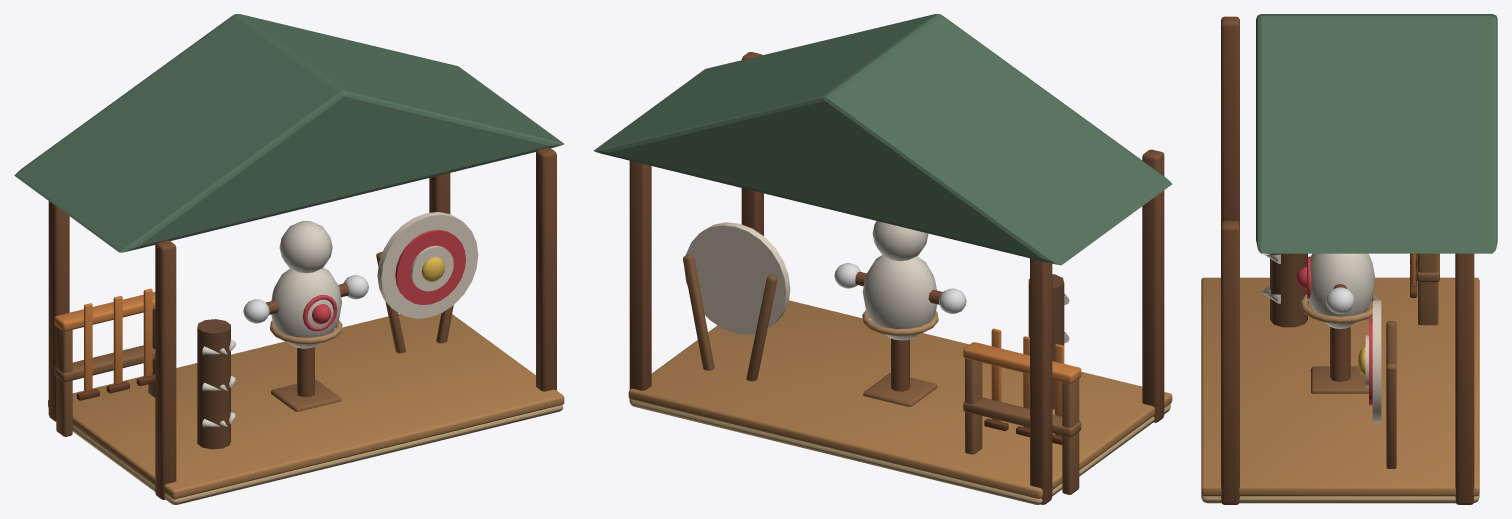
The model's file is training2.glb.
3 renders of one model, left to right at view 1: azimuth 30°, elevation 25°; view 2: azimuth 150°, elevation 25°; view 3: azimuth 270°, elevation 25°, orthographic. The views are drawn at different scales.
Visible parts, largest first — view 1: base, copper-rack, royal-target, fang-post; view 2: base, copper-rack, royal-target, fang-post; view 3: base, copper-rack, royal-target, fang-post.
Part boxes in pixels (x1,y1,x2,y2): base: [14, 14, 563, 504]; copper-rack: [48, 288, 564, 499]; royal-target: [376, 212, 478, 353]; fang-post: [197, 319, 236, 449]; base: [593, 14, 1172, 504]; copper-rack: [628, 300, 1172, 498]; royal-target: [683, 222, 790, 381]; fang-post: [1028, 274, 1069, 409]; base: [1201, 14, 1497, 504]; copper-rack: [1201, 253, 1479, 496]; royal-target: [1358, 300, 1396, 468]; fang-post: [1258, 252, 1307, 327].
Bounding box in the file's own units: 3.86 × 2.89 × 2.03.
